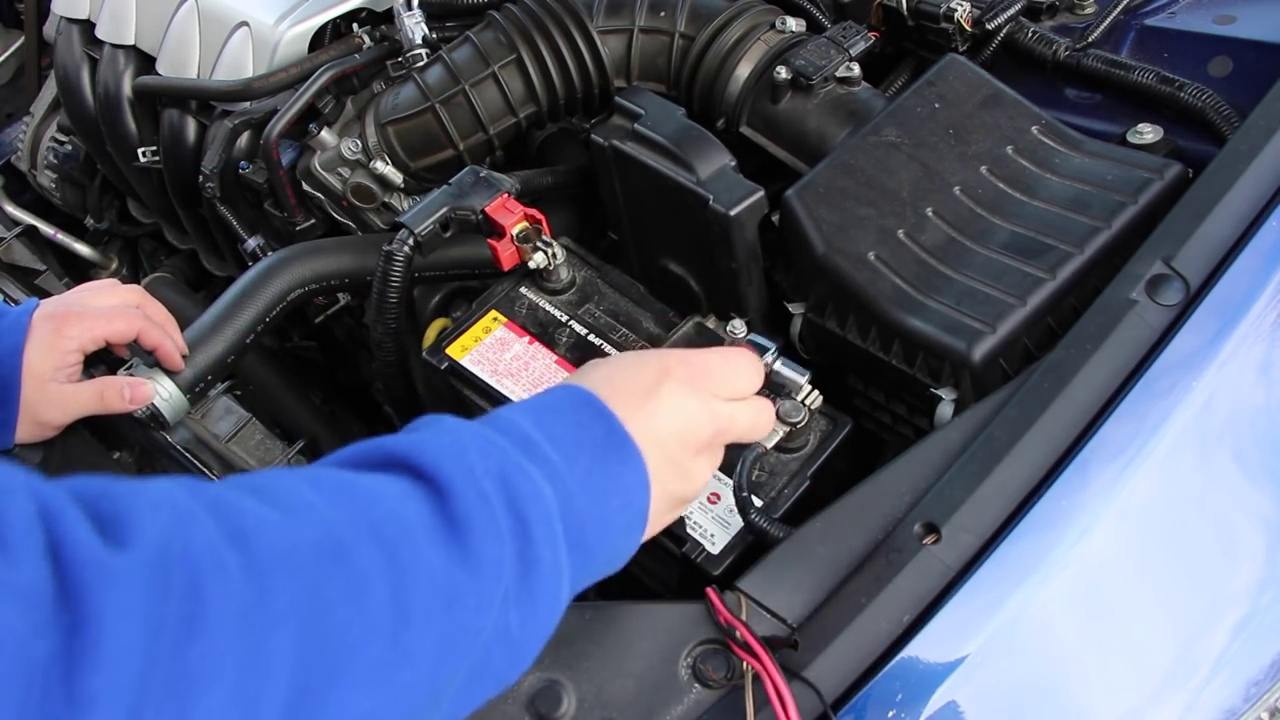battery: (436, 203, 855, 573)
neg_touched: (631, 296, 825, 524)
pos_connected: (441, 172, 585, 305)
